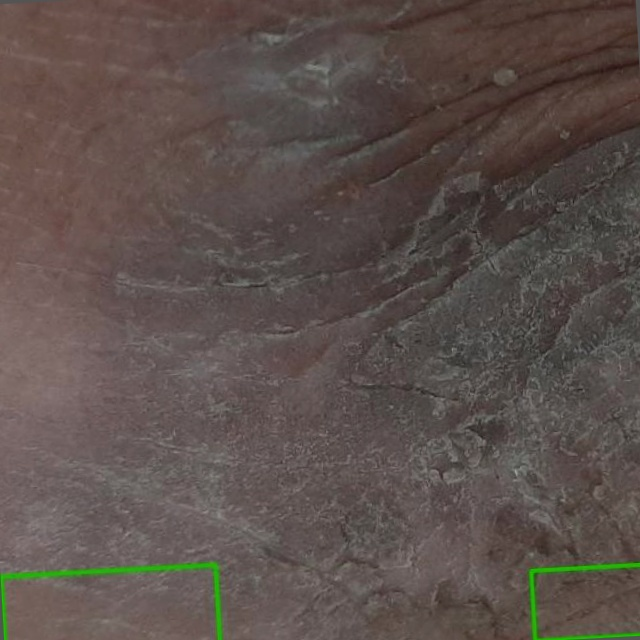Eczema: (1, 564, 219, 639), (531, 564, 639, 639)
